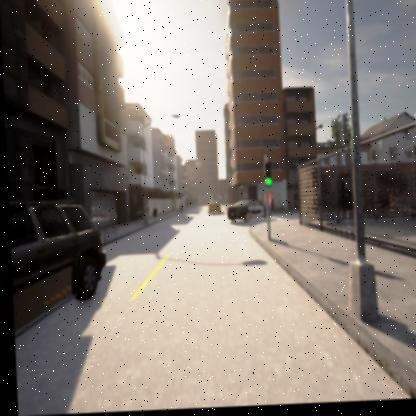vehicle: (8, 195, 106, 327), (225, 201, 265, 227), (205, 201, 219, 216)
